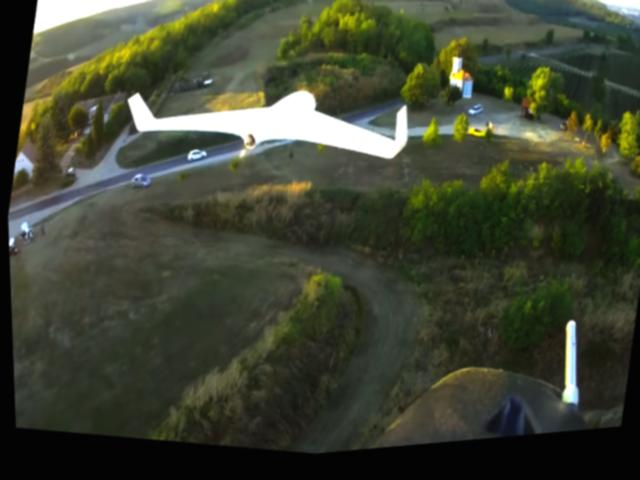plane: (118, 56, 414, 191)
